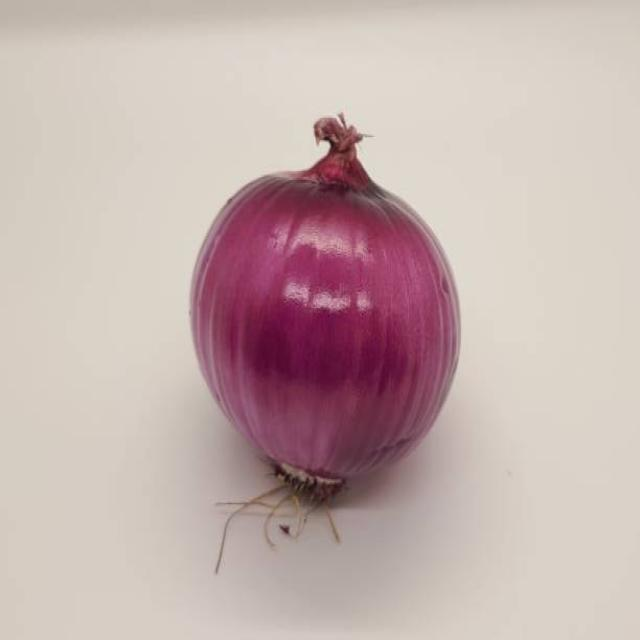onion: (183, 170, 464, 503)
